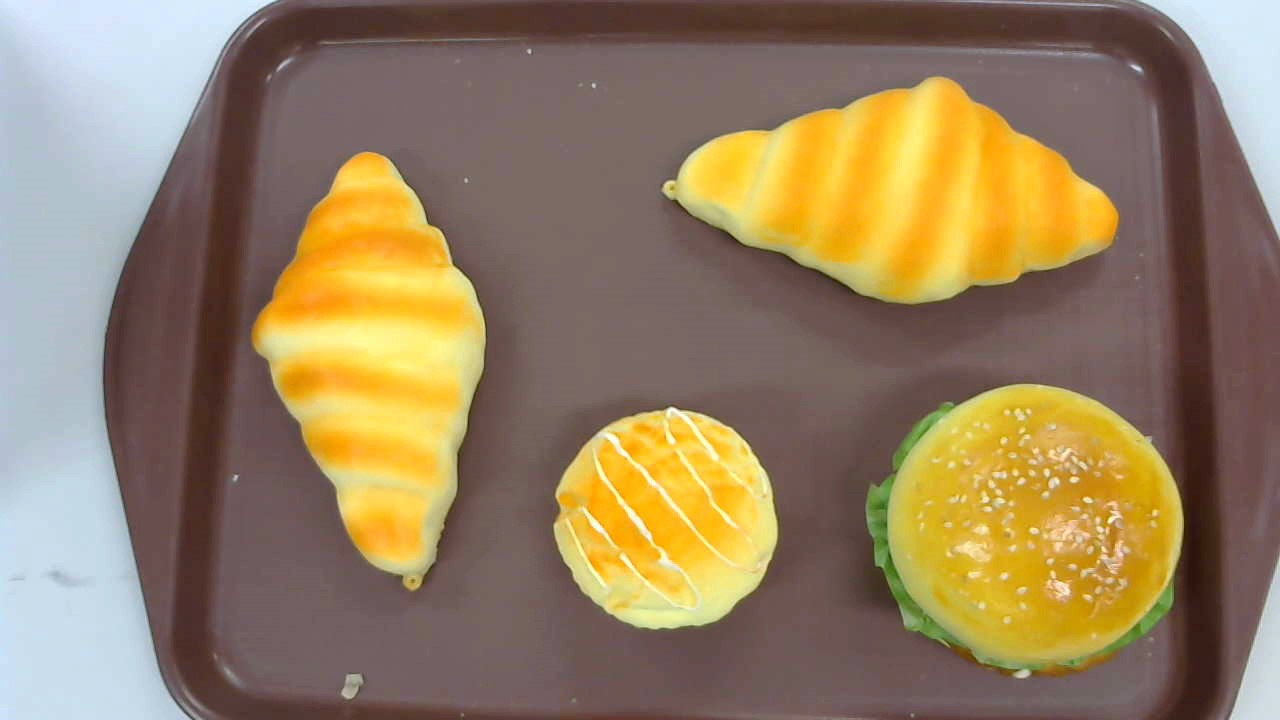croissant: (660, 74, 1118, 305), (252, 152, 486, 590)
cupcake: (553, 407, 778, 631)
hamburger: (866, 384, 1184, 678)
